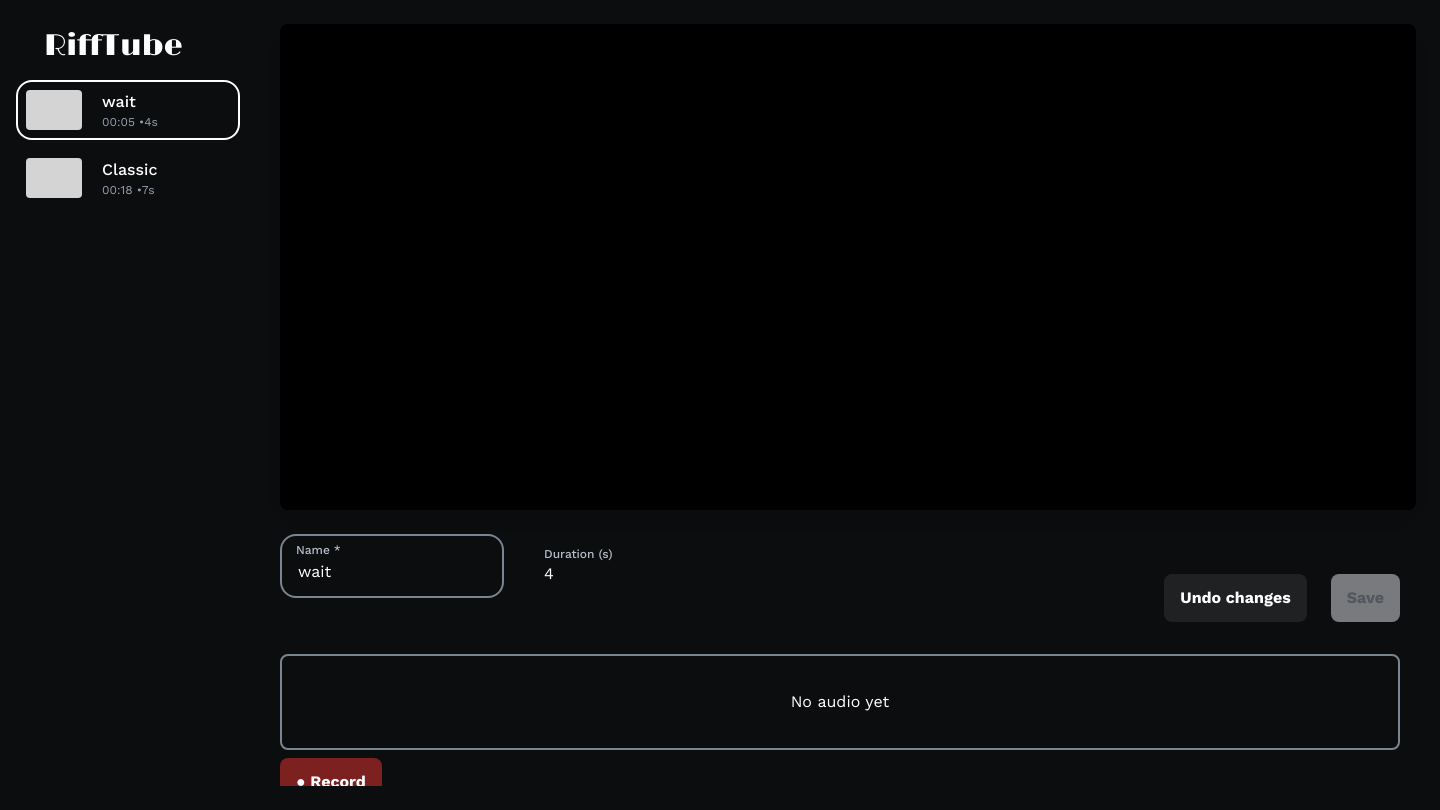
it: <EditorPage /> › updates the workspace when a different riff is clicked in the sidebar
The image size is (1440, 810).
# Click the second riff in the sidebar
Click the text "Classic": click(130, 170) [102,160,157,179]
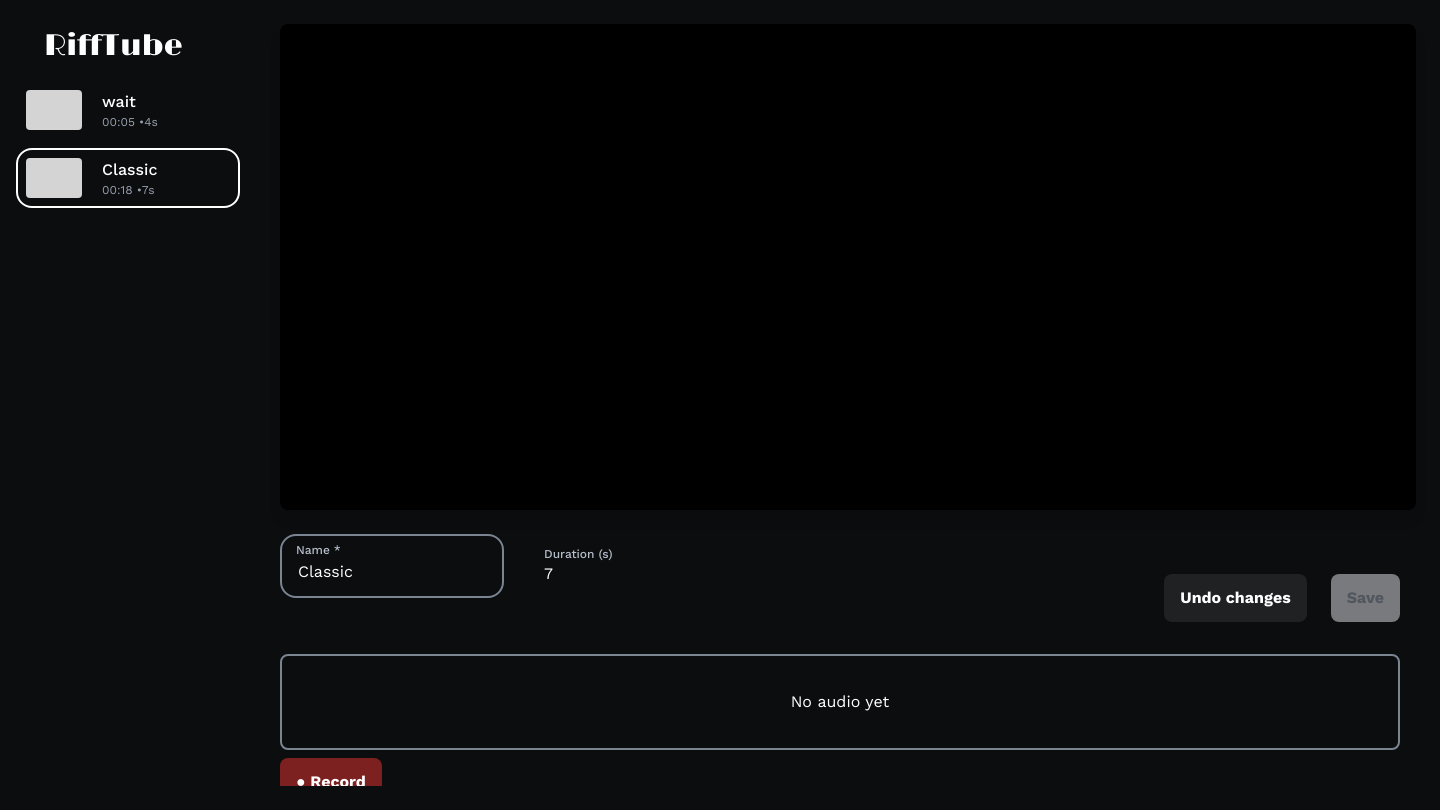
Now the field labelled "Name *" holds "Classic", box [280,534,504,598]
